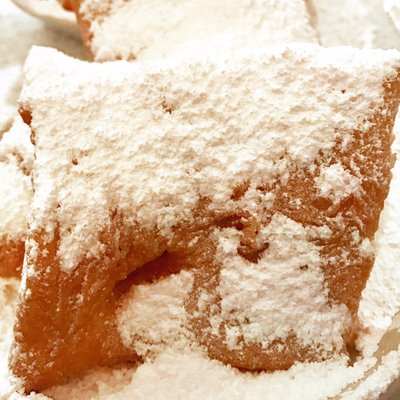sushi: (1, 0, 397, 398)
